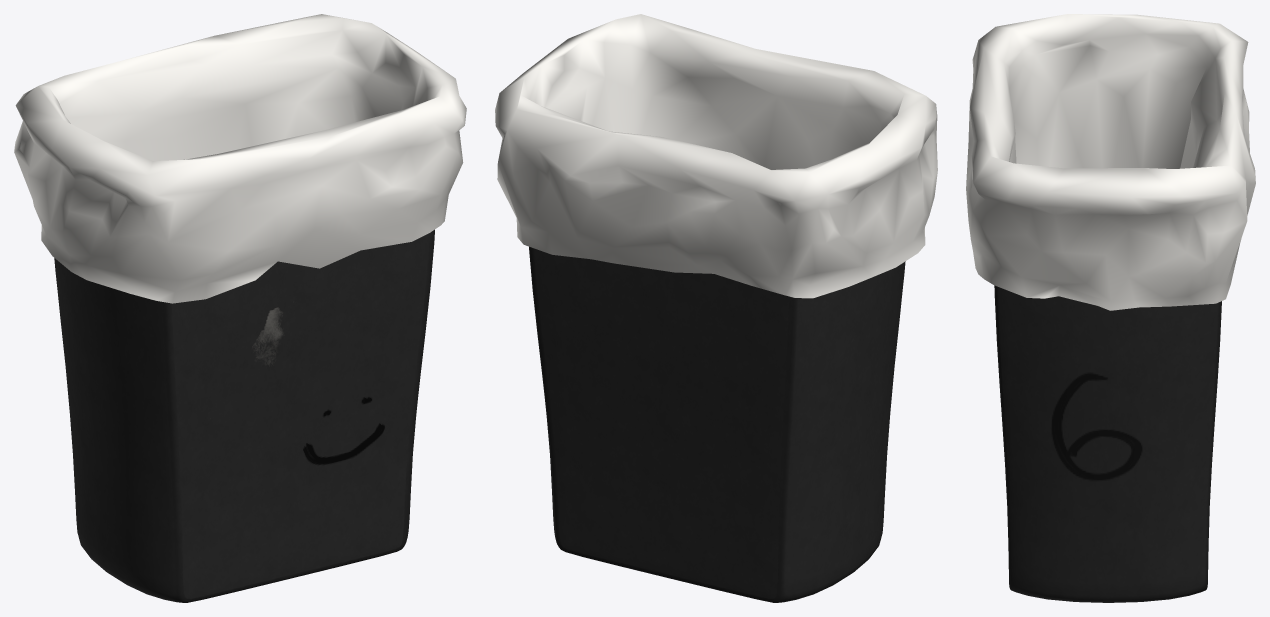
3 renders of one model, left to right at view 1: azimuth 30°, elevation 25°; view 2: azimuth 150°, elevation 25°; view 3: azimuth 270°, elevation 25°, orthographic.
Visible parts, largest first — view 1: trashcan_01; view 2: trashcan_01; view 3: trashcan_01.
Part boxes in pixels (x1,y1,x2,y2): trashcan_01: [14, 14, 466, 602]; trashcan_01: [495, 14, 937, 602]; trashcan_01: [966, 14, 1255, 602].
Bounding box in the file's own units: 3.18 × 3.64 × 2.13.
Materials: 2 (2 with a texture image).
